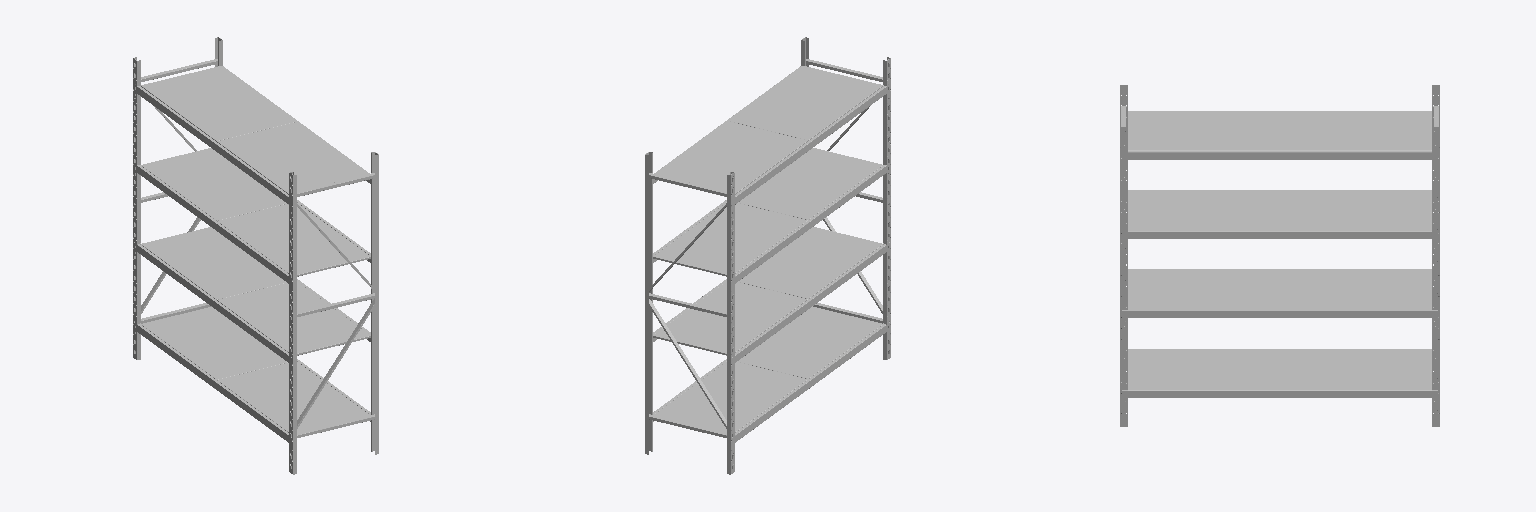
3 renders of one model, left to right at view 1: azimuth 30°, elevation 25°; view 2: azimuth 150°, elevation 25°; view 3: azimuth 270°, elevation 25°, orthographic.
Parts seen in each view (by area): view 1: 货架_货架_test2.001; view 2: 货架_货架_test2.001; view 3: 货架_货架_test2.001.
Boxes of the visible parts, x1=… form: 货架_货架_test2.001: x1=133, y1=37, x2=378, y2=474; 货架_货架_test2.001: x1=645, y1=37, x2=890, y2=474; 货架_货架_test2.001: x1=1120, y1=85, x2=1439, y2=426.
Size of the model in its own units: 2.8 by 9.28 by 9.01.